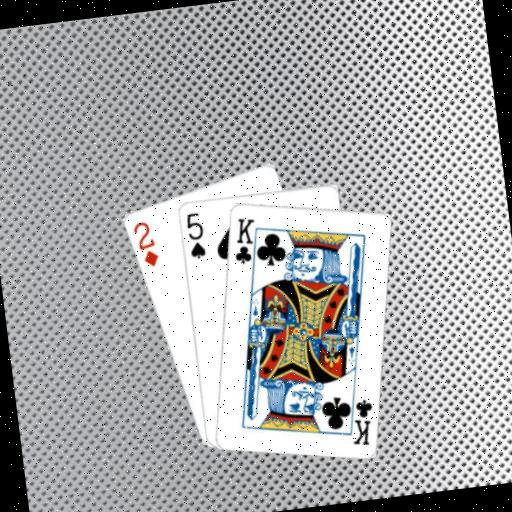2D: (129, 217, 161, 270)
5S: (182, 208, 208, 261)
KC: (339, 387, 378, 448), (227, 213, 265, 273)
